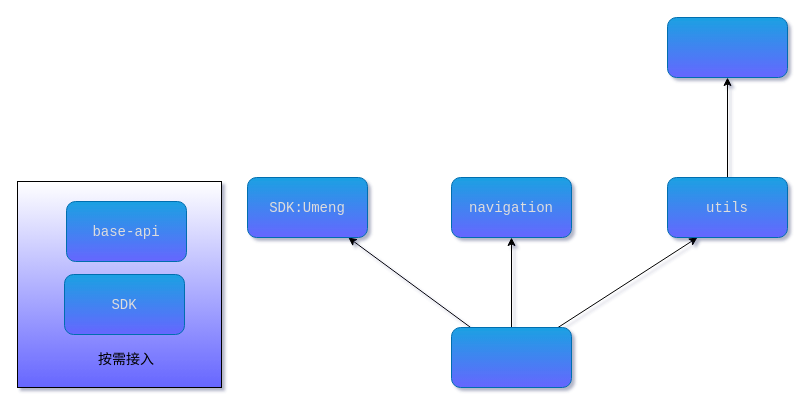
Image size: 811x411. Some labels were removed from this diagram. The shapes that lost their labels are listed below. From the top down, each one's centre as x and y in pixels, then its label:
[727,47]: base-app-res
[511,357]: base-arch
